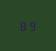eight: (19, 20, 27, 31)
nine: (28, 19, 36, 30)
